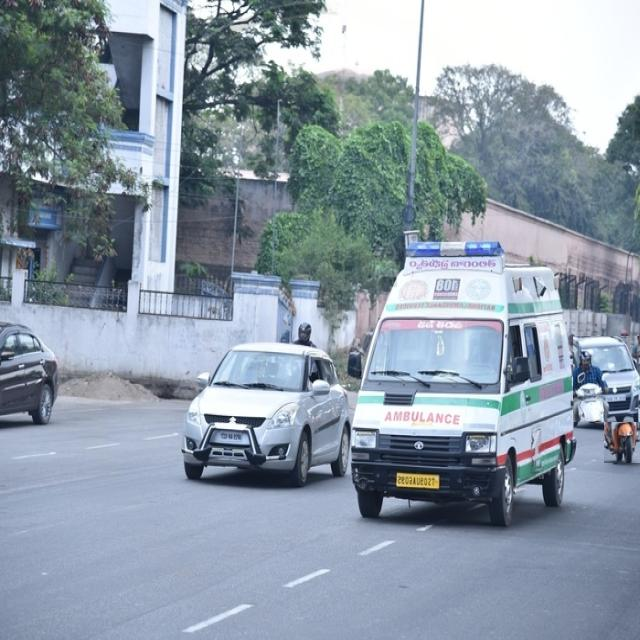car: (181, 344, 349, 485), (573, 337, 639, 422)
emergency: (351, 241, 575, 524)
motorcycle: (604, 352, 640, 463)
